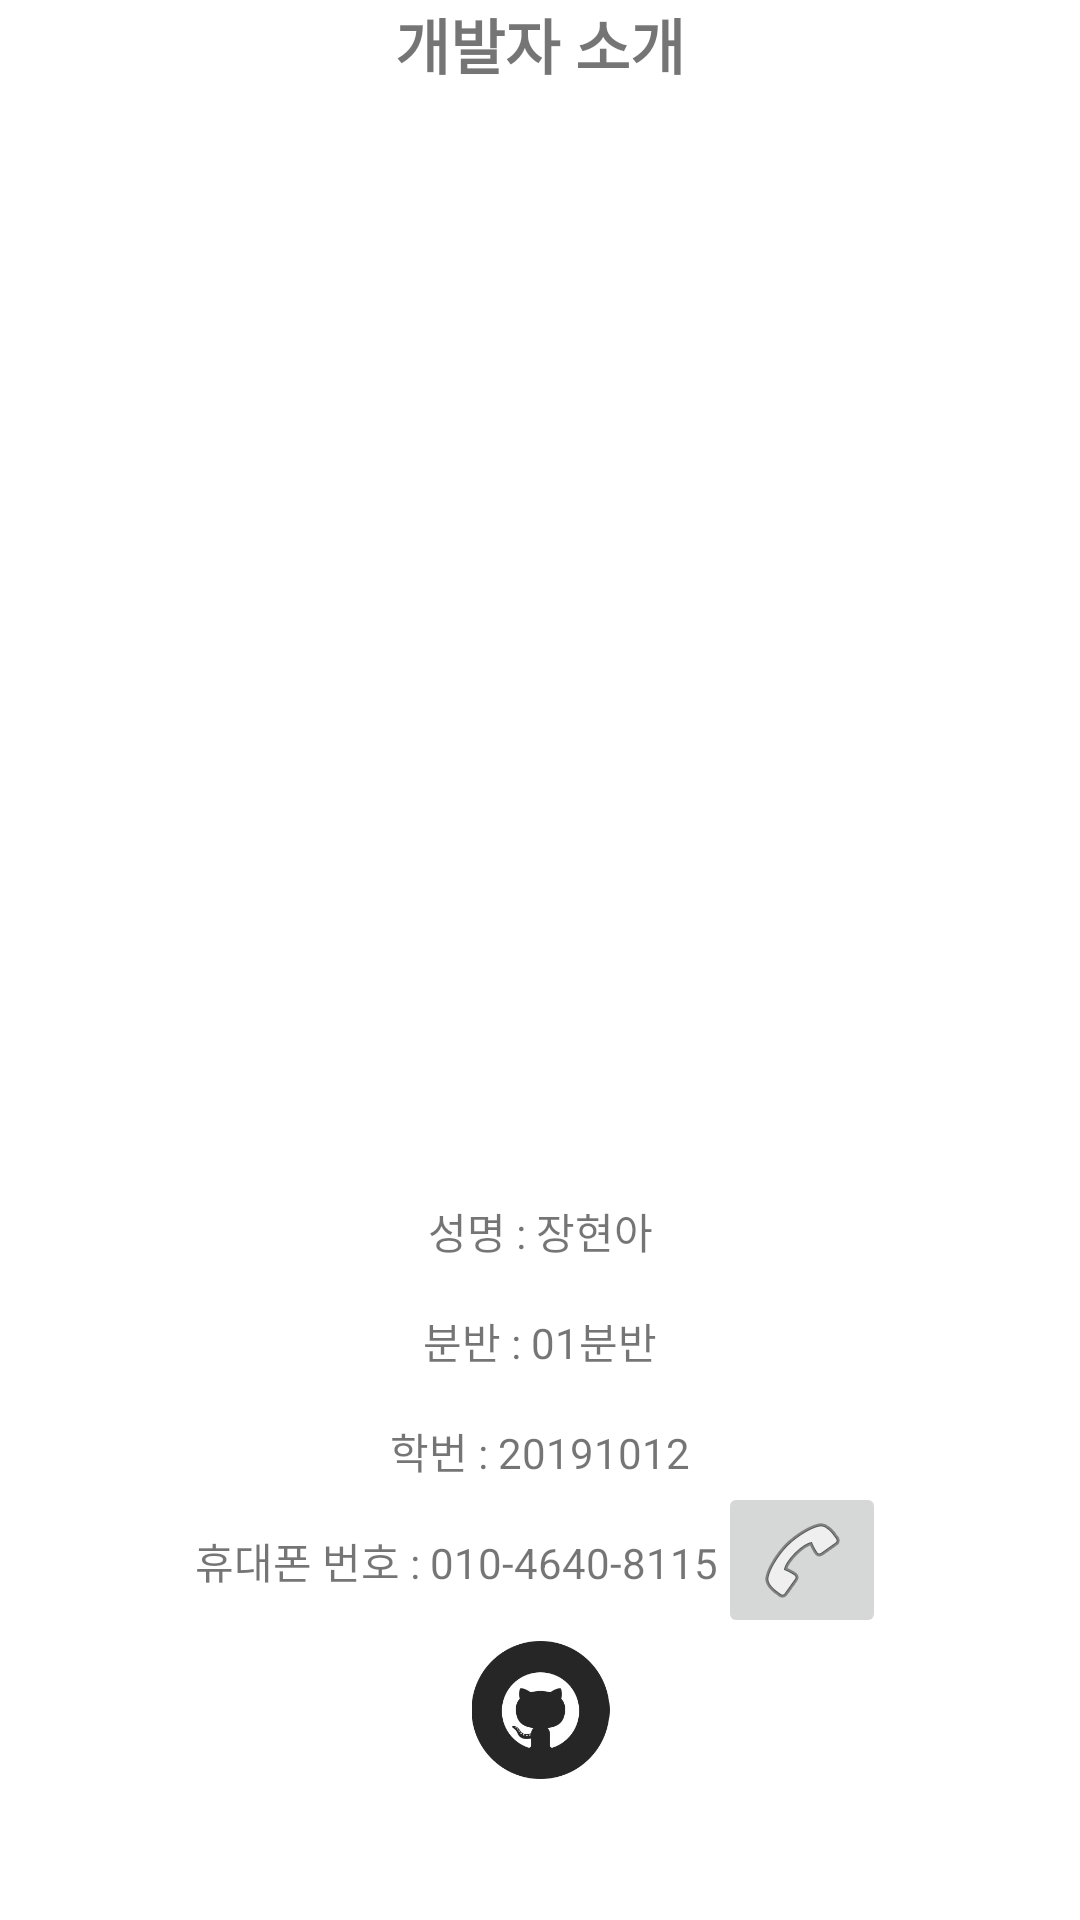

Where icons sit on this 1080 × 1920 app screen, as (x1, y1, x2, y2):
call: (730, 1500, 874, 1620)
